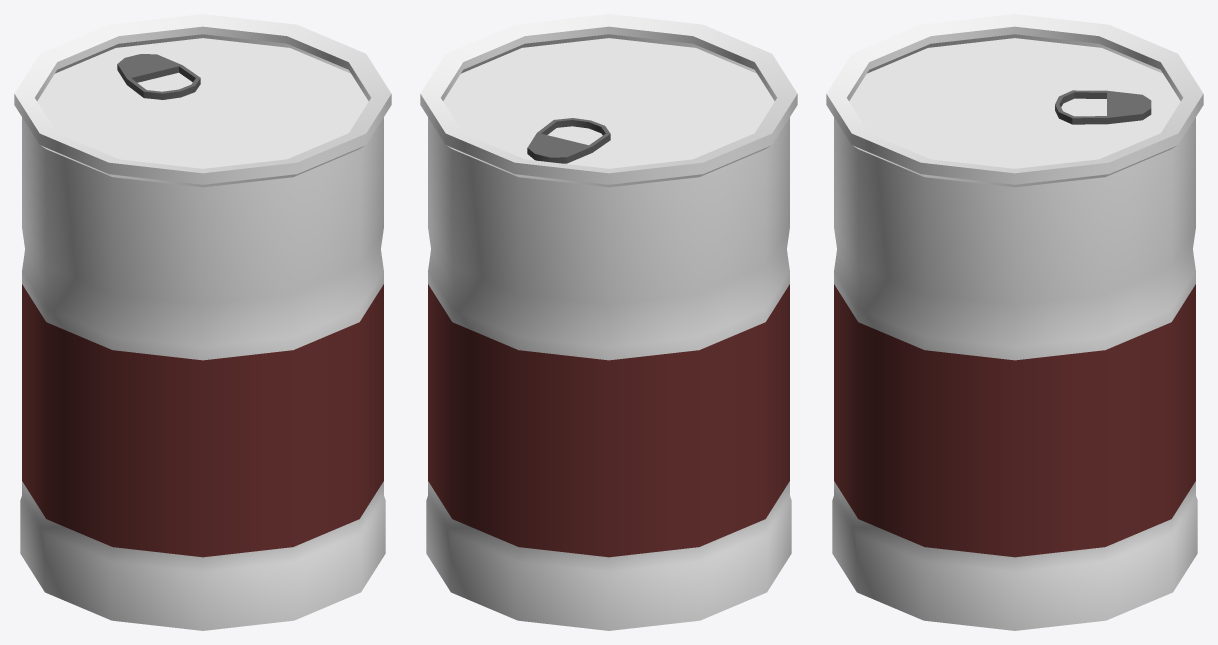
File: FoodCan_Branded.fbx
The picture shows the model from 3 angles, left to right: view 1: azimuth 30°, elevation 25°; view 2: azimuth 150°, elevation 25°; view 3: azimuth 270°, elevation 25°; orthographic projection.
Parts seen in each view (by area): view 1: FoodCan_Branded; view 2: FoodCan_Branded; view 3: FoodCan_Branded.
Boxes of the visible parts, left/top/right/bottom form: FoodCan_Branded: left=14, top=14, right=391, bottom=630; FoodCan_Branded: left=420, top=14, right=797, bottom=630; FoodCan_Branded: left=826, top=14, right=1203, bottom=630.
Bounding box in the file's own units: 30.6 × 41.21 × 30.6.
